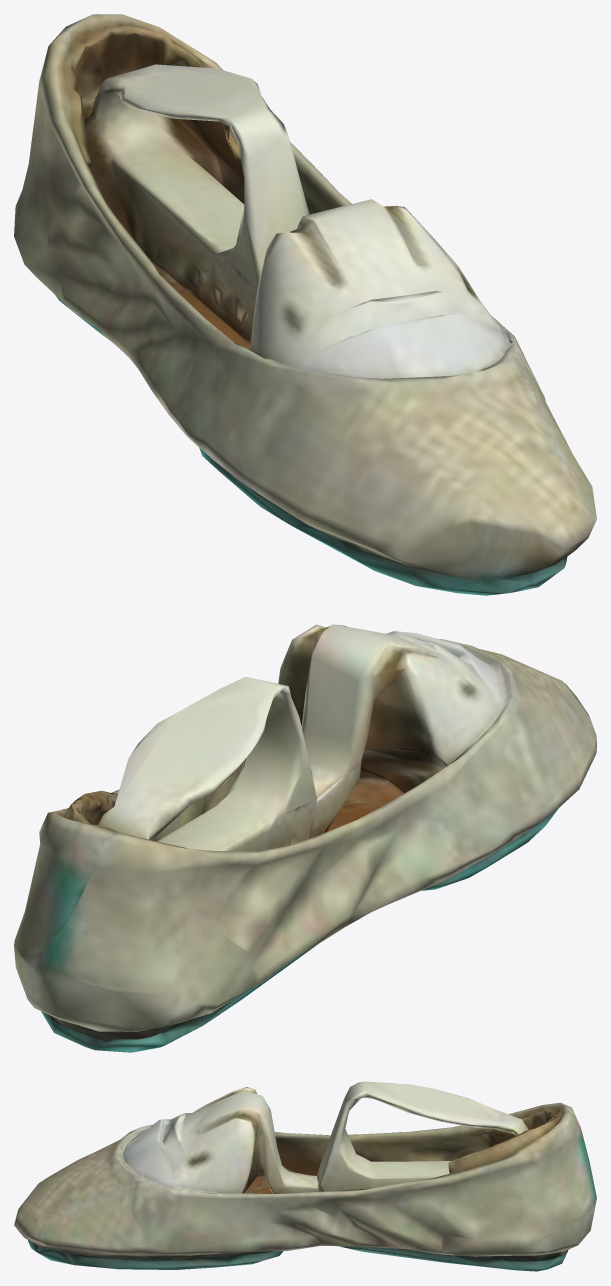
Rendered from gso_romantic_blush_tieks_metallic_italian_leather_ballet_flats.glb.
3 renders of one model, top to bottom at view 1: azimuth 30°, elevation 25°; view 2: azimuth 150°, elevation 25°; view 3: azimuth 270°, elevation 25°, orthographic. The views are drawn at different scales.
Visible parts, largest first — view 1: z-up-to-y-up; view 2: z-up-to-y-up; view 3: z-up-to-y-up.
Boxes of the visible parts, x1,y1,x2,y2 form: z-up-to-y-up: [14, 14, 596, 595]; z-up-to-y-up: [14, 624, 596, 1052]; z-up-to-y-up: [14, 1081, 596, 1271].
Bounding box in the file's own units: 0.0814 × 0.0769 × 0.2464.
Materials: 1 (1 with a texture image).
